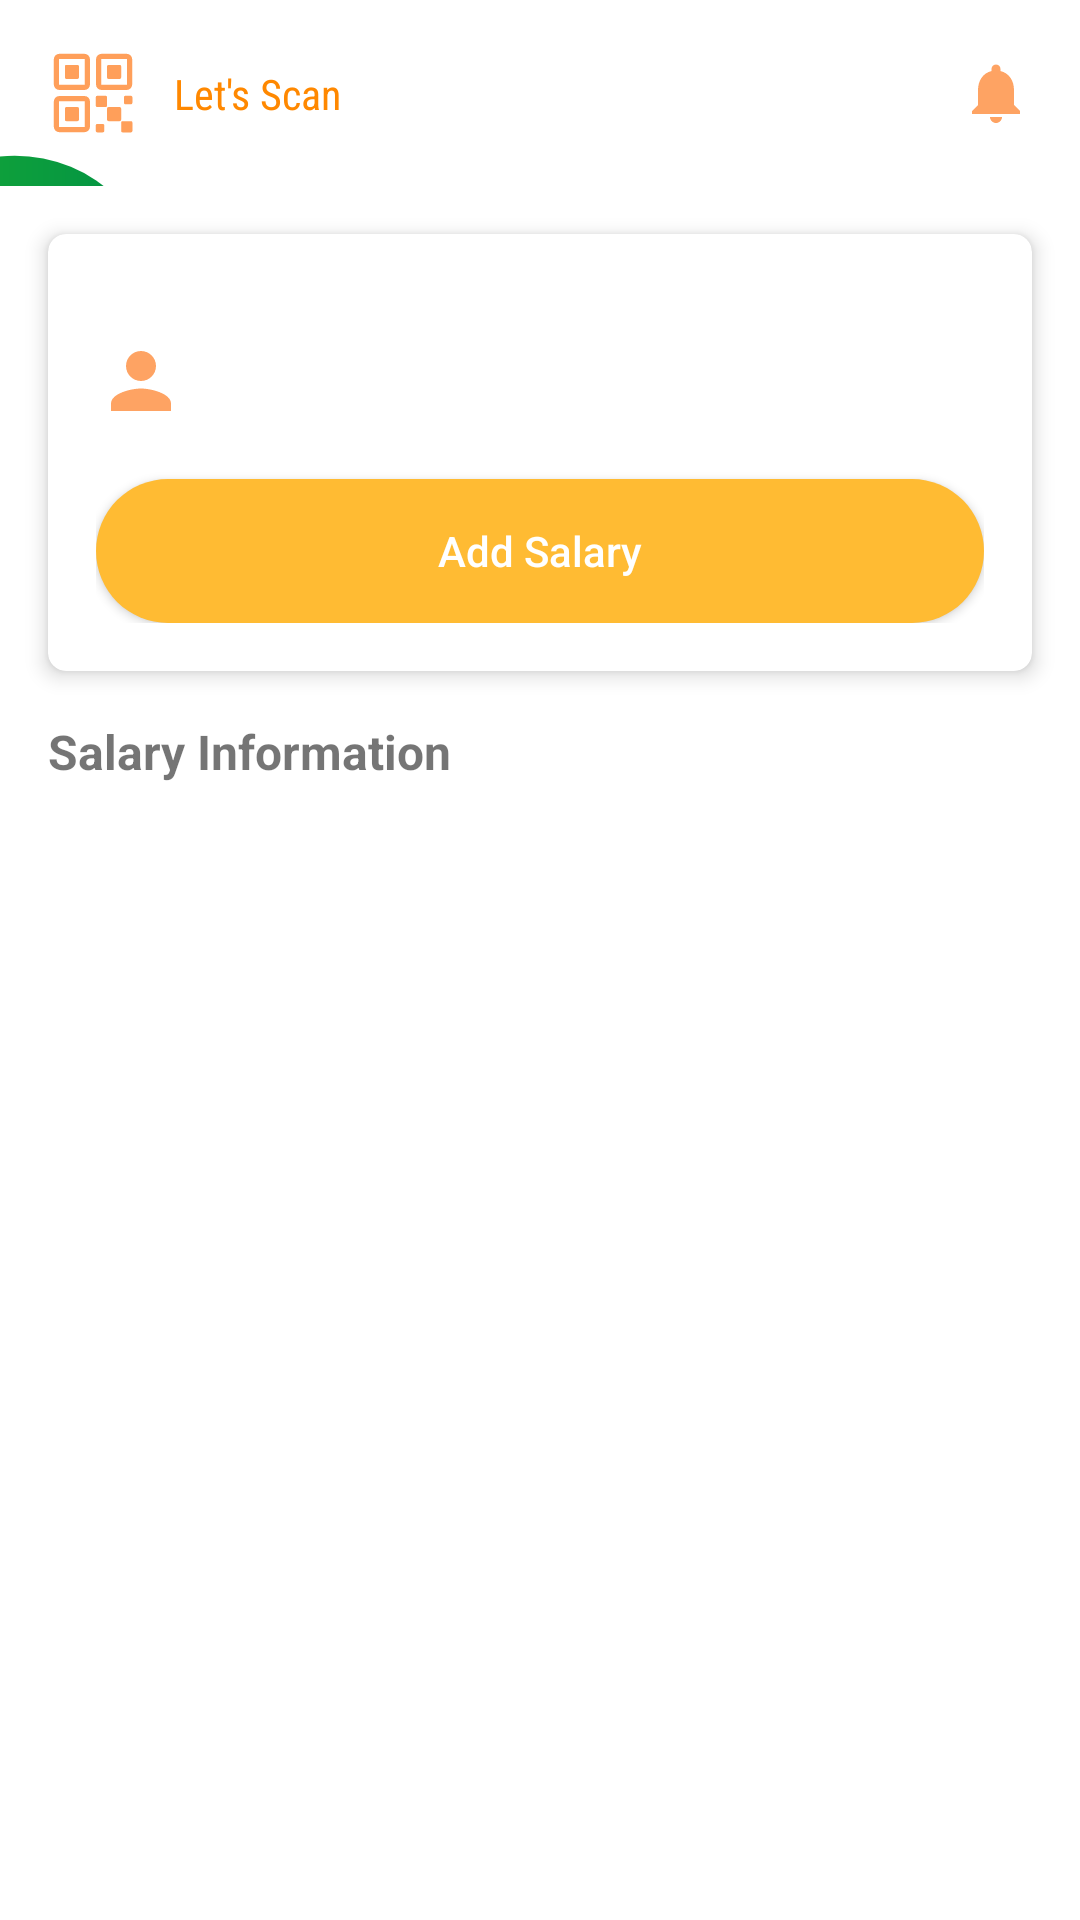

Icon click points for this 1080x1920 phone screenshot, format point (x, y):
notifications: point (996, 93)
person: point (141, 381)
qr code: point (93, 93)
